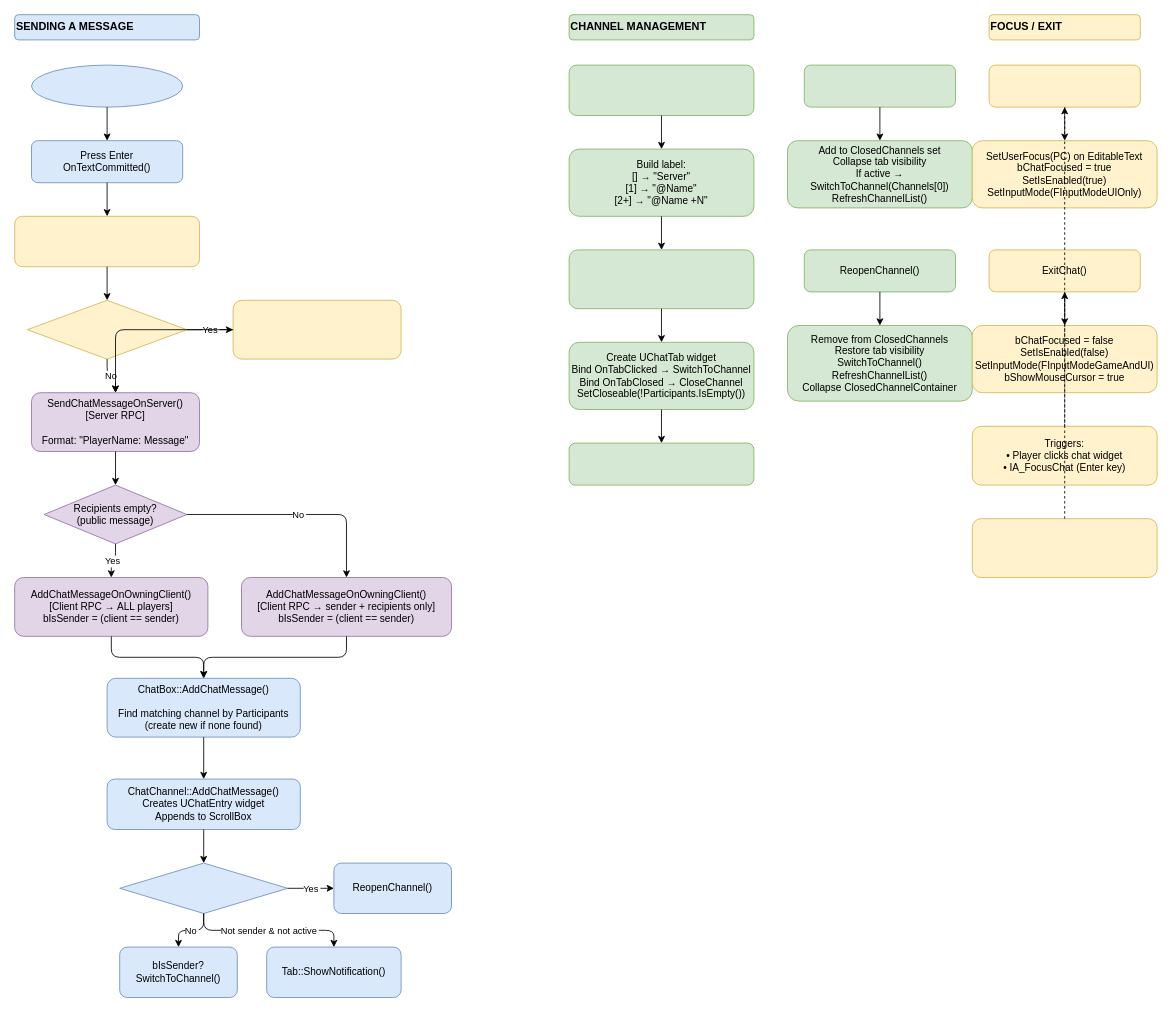
Image size: 1172x1012. Some labels were removed from this diagram. The box of each missing label's shape, as (x1, y1, x2, y2) in pixels:
Active channel is private and no @mentions typed?: (26, 299, 187, 359)
Add tab to TabBar: (568, 442, 754, 485)
Auto-fill Recipients from ActiveChannel.Participants (minus sender): (232, 299, 401, 359)
Channel was closed?: (119, 862, 288, 914)
CloseChannel(): (803, 64, 956, 107)
Create UChatChannel widget Set DisplayName, Participants Add to ChannelContainer: (568, 249, 754, 309)
CreateChannel(Participants[]): (568, 64, 754, 116)
FocusChat(): (988, 64, 1140, 107)
Parse words for @mentions → Recipients[] → Message (remaining words): (14, 215, 200, 267)
Player types message in EditableText: (31, 64, 183, 107)
Triggers: • OnTextCommitted (focus lost) • IA_ExitChat (Escape key): (971, 518, 1157, 578)
